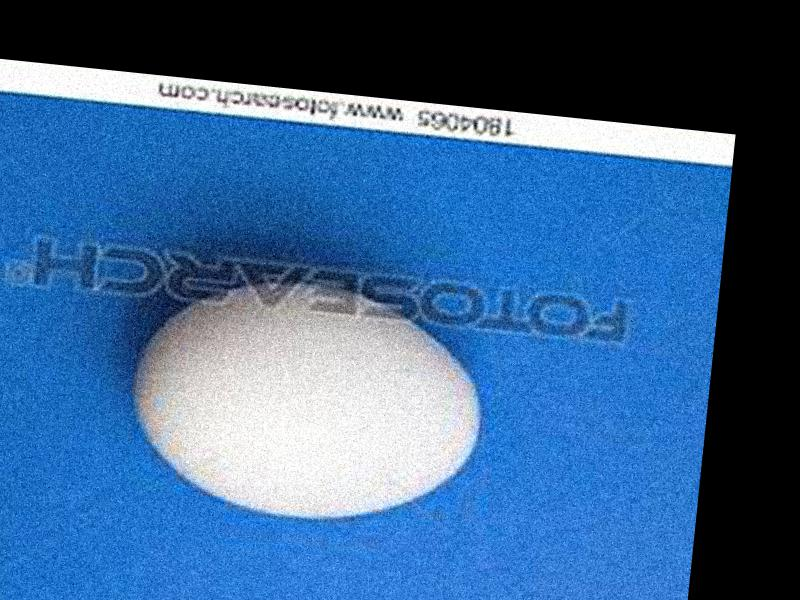Eggs: (123, 260, 491, 533)
